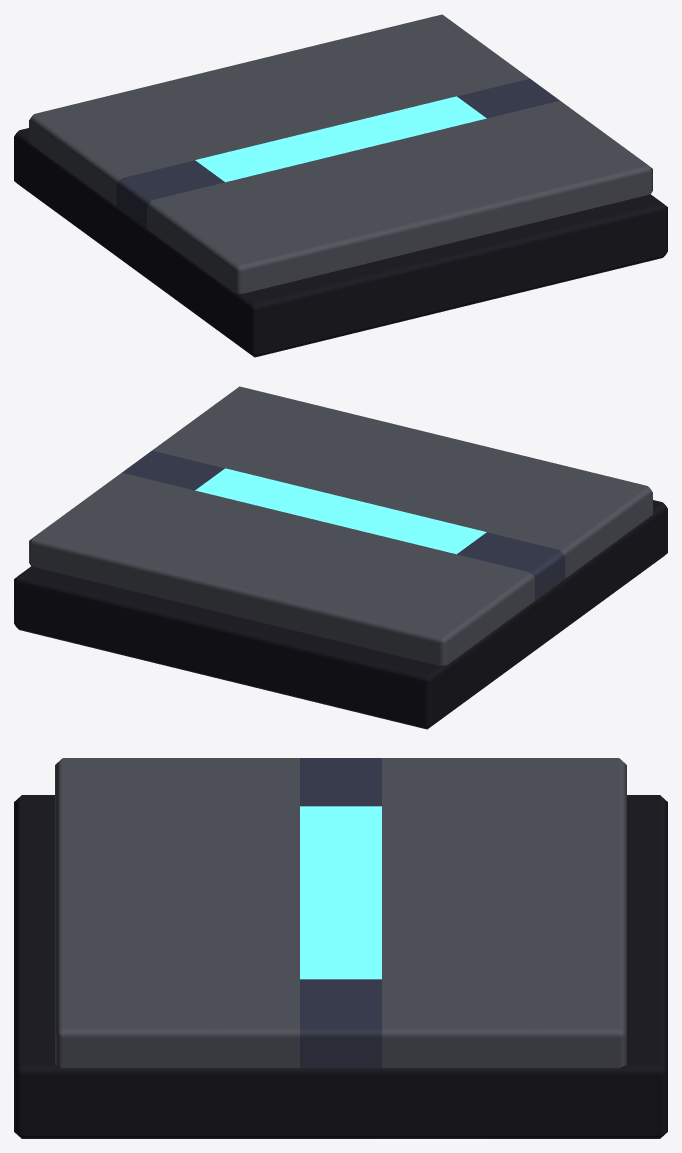
The model's file is int.floor.corridor.glb.
The picture shows the model from 3 angles, top to bottom: view 1: azimuth 30°, elevation 25°; view 2: azimuth 150°, elevation 25°; view 3: azimuth 270°, elevation 25°; orthographic projection. The views are drawn at different scales.
Visible parts, largest first — view 1: int.floor.corridor; view 2: int.floor.corridor; view 3: int.floor.corridor.
Boxes of the visible parts, left/top/right/bottom form: int.floor.corridor: left=14, top=14, right=667, bottom=357; int.floor.corridor: left=14, top=386, right=667, bottom=729; int.floor.corridor: left=14, top=758, right=667, bottom=1138.
Size of the model in its own units: 1 by 0.1877 by 1.
